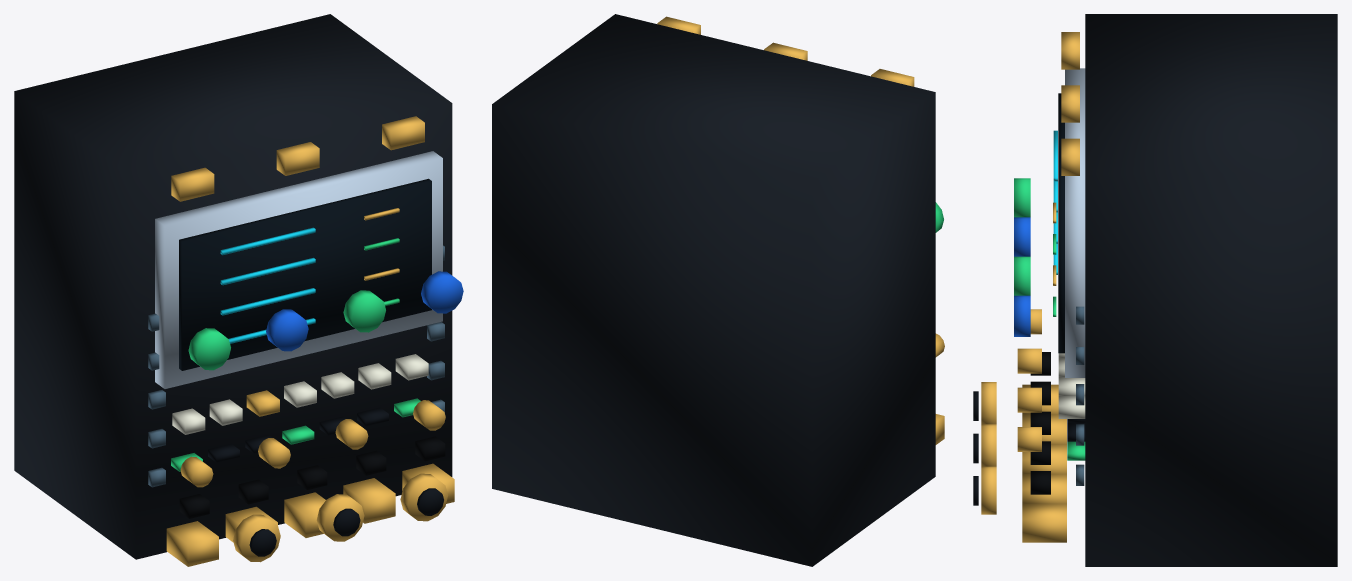
File: 27_L93_CTGantryCoolingManifold.fbx
The picture shows the model from 3 angles, left to right: view 1: azimuth 30°, elevation 25°; view 2: azimuth 150°, elevation 25°; view 3: azimuth 270°, elevation 25°; orthographic projection. The views are drawn at different scales.
Visible parts, largest first — view 1: L92_CTGantryCoolingManifold_Part_0000, L92_CTGantryCoolingManifold_Part_0002, L92_CTGantryCoolingManifold_Part_0001, L92_CTGantryCoolingManifold_Part_0004, L92_CTGantryCoolingManifold_Part_0006, L92_CTGantryCoolingManifold_Part_0005, L92_CTGantryCoolingManifold_Part_0009, L92_CTGantryCoolingManifold_Part_0010, L92_CTGantryCoolingManifold_Part_0003, L92_CTGantryCoolingManifold_Part_0008, L92_CTGantryCoolingManifold_Part_0007, L92_CTGantryCoolingManifold_Part_0014 (+5 smaller); view 2: L92_CTGantryCoolingManifold_Part_0000, L92_CTGantryCoolingManifold_Part_0004; view 3: L92_CTGantryCoolingManifold_Part_0000, L92_CTGantryCoolingManifold_Part_0004, L92_CTGantryCoolingManifold_Part_0001, L92_CTGantryCoolingManifold_Part_0005, L92_CTGantryCoolingManifold_Part_0009, L92_CTGantryCoolingManifold_Part_0002, L92_CTGantryCoolingManifold_Part_0010, L92_CTGantryCoolingManifold_Part_0006, L92_CTGantryCoolingManifold_Part_0008, L92_CTGantryCoolingManifold_Part_0018, L92_CTGantryCoolingManifold_Part_0014, L92_CTGantryCoolingManifold_Part_0016 (+1 smaller).
Boxes of the visible parts, x1,y1,x2,y2 form: L92_CTGantryCoolingManifold_Part_0000: [14, 14, 452, 559]; L92_CTGantryCoolingManifold_Part_0002: [179, 178, 431, 370]; L92_CTGantryCoolingManifold_Part_0001: [155, 151, 442, 388]; L92_CTGantryCoolingManifold_Part_0004: [166, 116, 454, 566]; L92_CTGantryCoolingManifold_Part_0006: [172, 354, 428, 434]; L92_CTGantryCoolingManifold_Part_0005: [171, 238, 420, 471]; L92_CTGantryCoolingManifold_Part_0009: [179, 436, 445, 518]; L92_CTGantryCoolingManifold_Part_0010: [266, 271, 463, 351]; L92_CTGantryCoolingManifold_Part_0003: [220, 227, 315, 343]; L92_CTGantryCoolingManifold_Part_0008: [148, 245, 444, 487]; L92_CTGantryCoolingManifold_Part_0007: [208, 407, 388, 462]; L92_CTGantryCoolingManifold_Part_0014: [233, 514, 280, 562]; L92_CTGantryCoolingManifold_Part_0000: [492, 14, 935, 566]; L92_CTGantryCoolingManifold_Part_0004: [657, 16, 944, 444]; L92_CTGantryCoolingManifold_Part_0000: [1085, 14, 1337, 566]; L92_CTGantryCoolingManifold_Part_0004: [1017, 32, 1079, 542]; L92_CTGantryCoolingManifold_Part_0001: [1065, 68, 1085, 377]; L92_CTGantryCoolingManifold_Part_0005: [1014, 178, 1085, 460]; L92_CTGantryCoolingManifold_Part_0009: [1030, 352, 1050, 494]; L92_CTGantryCoolingManifold_Part_0002: [1058, 93, 1064, 353]; L92_CTGantryCoolingManifold_Part_0010: [1014, 217, 1030, 336]; L92_CTGantryCoolingManifold_Part_0006: [1058, 353, 1085, 418]; L92_CTGantryCoolingManifold_Part_0008: [1076, 306, 1084, 485]; L92_CTGantryCoolingManifold_Part_0018: [981, 466, 996, 514]; L92_CTGantryCoolingManifold_Part_0014: [981, 382, 996, 424]; L92_CTGantryCoolingManifold_Part_0016: [981, 424, 996, 466].
Size of the model in its own units: 102 by 117 by 98.2.
